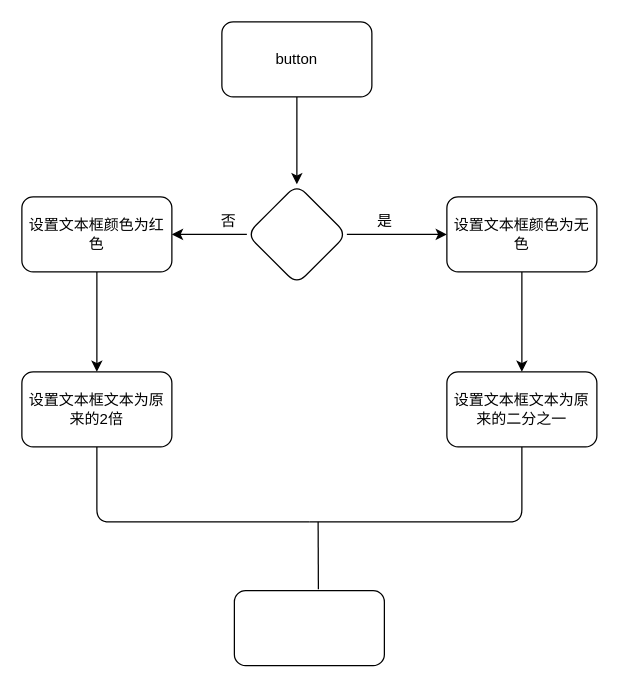
This 619x688 diagram has some shape labels left out. The shapes that lost their labels are listed below. From the top down, each one's centre as x and y in pixels, then its label:
point 296,233: 文本输入框内是否有文本
point 308,627: 等待点击button
